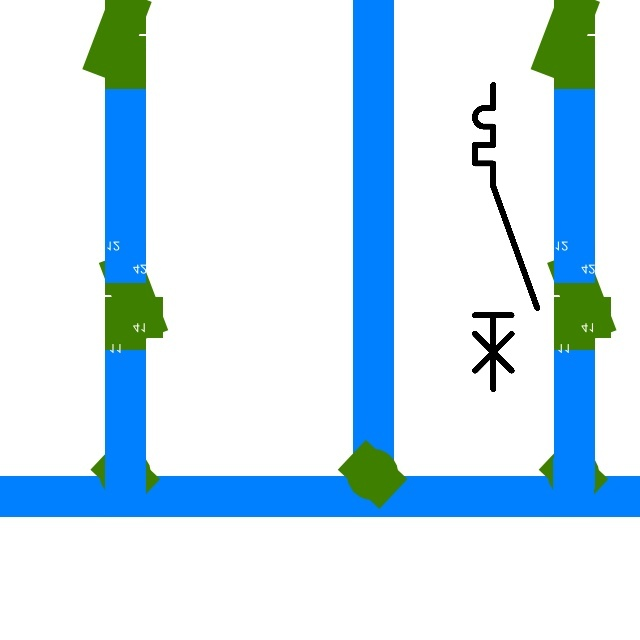interruptor_termomagnetico: (467, 77, 545, 397)
